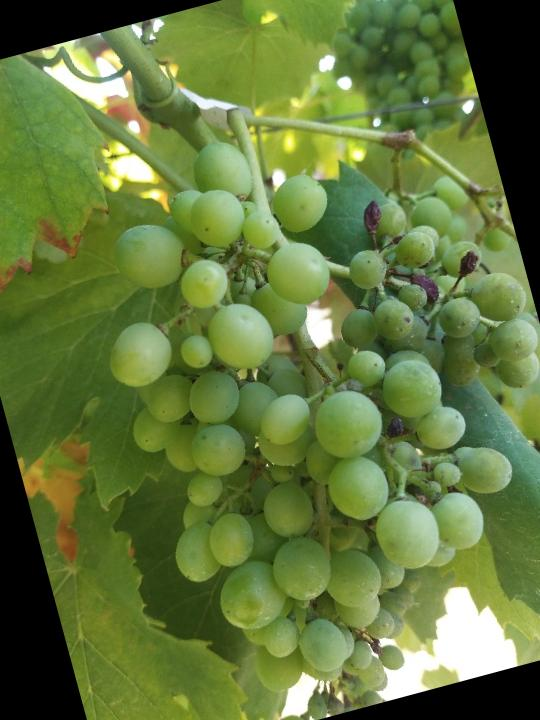grape: (56, 68, 540, 720)
